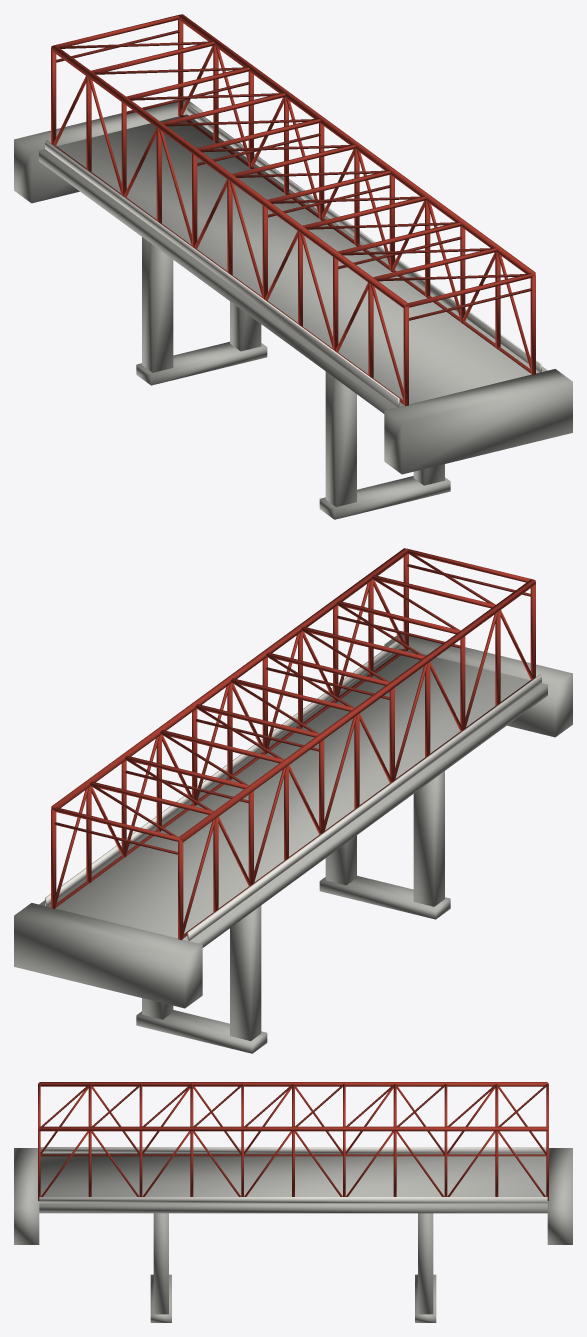
Rendered from kurogane_crossover_truss_bridge.glb.
The picture shows the model from 3 angles, top to bottom: view 1: azimuth 30°, elevation 25°; view 2: azimuth 150°, elevation 25°; view 3: azimuth 270°, elevation 25°; orthographic projection. The views are drawn at different scales.
Visible parts, largest first — view 1: Surface_concrete, Surface_steel, Surface_steel_dark, Surface_rail; view 2: Surface_concrete, Surface_steel, Surface_steel_dark, Surface_rail; view 3: Surface_concrete, Surface_steel, Surface_rail, Surface_steel_dark.
Boxes of the visible parts, x1,y1,x2,y2 form: Surface_concrete: [14, 100, 572, 519]; Surface_steel: [51, 14, 535, 406]; Surface_steel_dark: [55, 30, 532, 404]; Surface_rail: [45, 105, 541, 406]; Surface_concrete: [14, 634, 572, 1053]; Surface_steel: [51, 548, 535, 940]; Surface_steel_dark: [54, 551, 531, 938]; Surface_rail: [45, 641, 541, 940]; Surface_concrete: [14, 1148, 572, 1322]; Surface_steel: [38, 1082, 548, 1200]; Surface_rail: [39, 1147, 547, 1203]; Surface_steel_dark: [40, 1084, 546, 1156].
Size of the model in its own units: 28 by 42.85 by 110.
